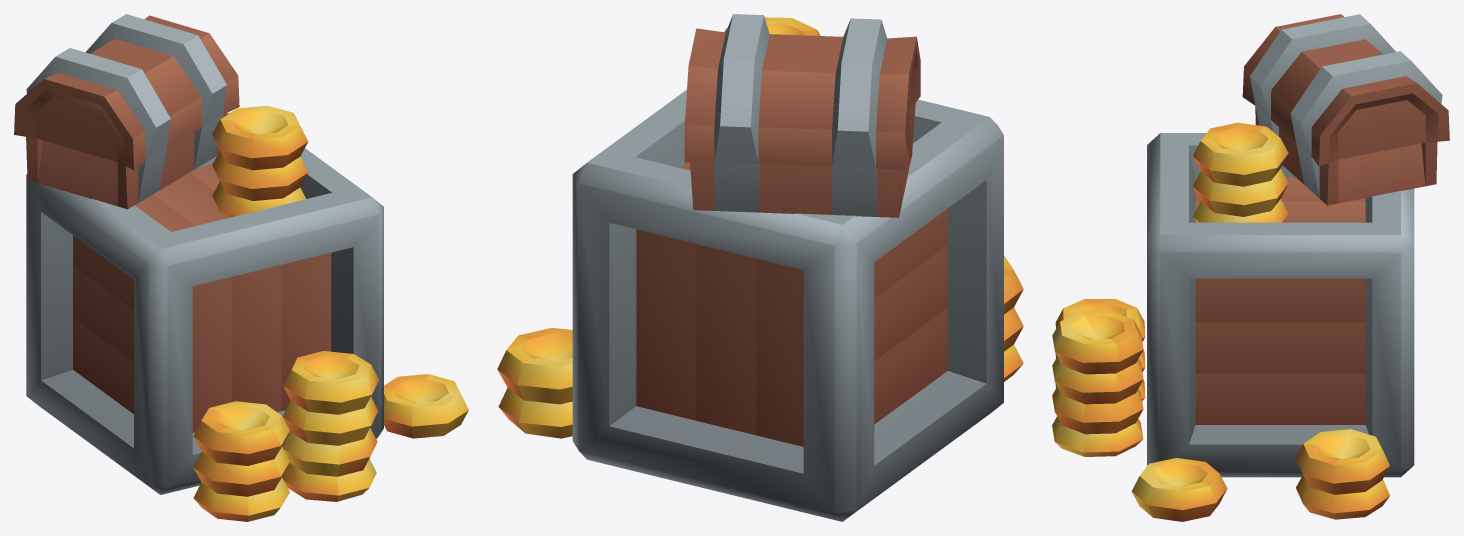
Rendered from box_small_decorated.gltf.
3 renders of one model, left to right at view 1: azimuth 30°, elevation 25°; view 2: azimuth 150°, elevation 25°; view 3: azimuth 270°, elevation 25°, orthographic. The views are drawn at different scales.
Visible parts, largest first — view 1: box_small_decorated; view 2: box_small_decorated; view 3: box_small_decorated.
Part boxes in pixels (x1,y1,x2,y2): box_small_decorated: [14, 14, 468, 521]; box_small_decorated: [497, 14, 1023, 521]; box_small_decorated: [1052, 14, 1449, 521].
Size of the model in its own units: 1.49 by 1.48 by 1.49.
Materials: 1 (1 with a texture image).
